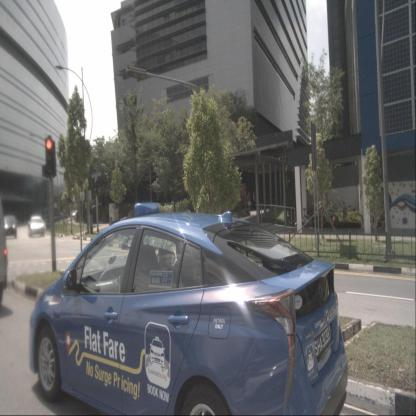human-pedestrian-adult: (247, 190, 251, 212), (253, 190, 256, 211)
vehicle-bicycle: (341, 202, 363, 229), (319, 204, 339, 229), (294, 207, 311, 228)
vehicle-car: (29, 202, 348, 416), (29, 215, 46, 237), (3, 216, 17, 238)
